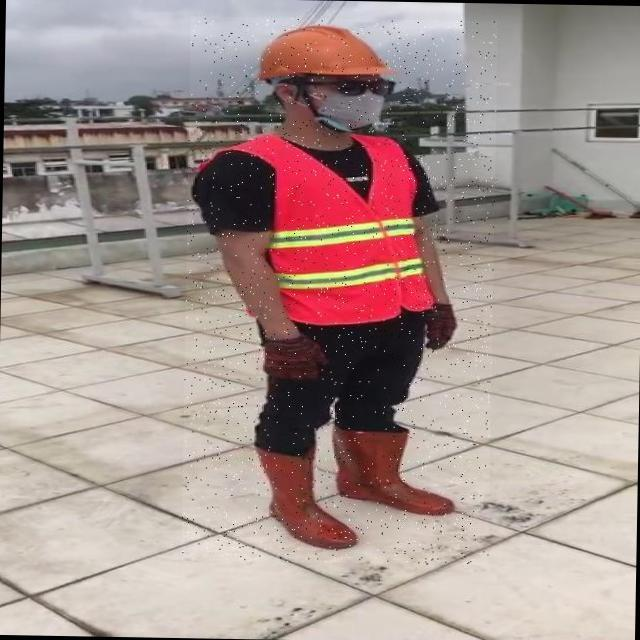Gloves: (259, 334, 330, 383), (425, 302, 456, 350)
Helmet: (249, 21, 398, 82)
Human: (181, 16, 497, 565)
Safety Boot: (329, 424, 456, 517), (255, 443, 359, 548)
Safety Vest: (253, 135, 430, 321)
